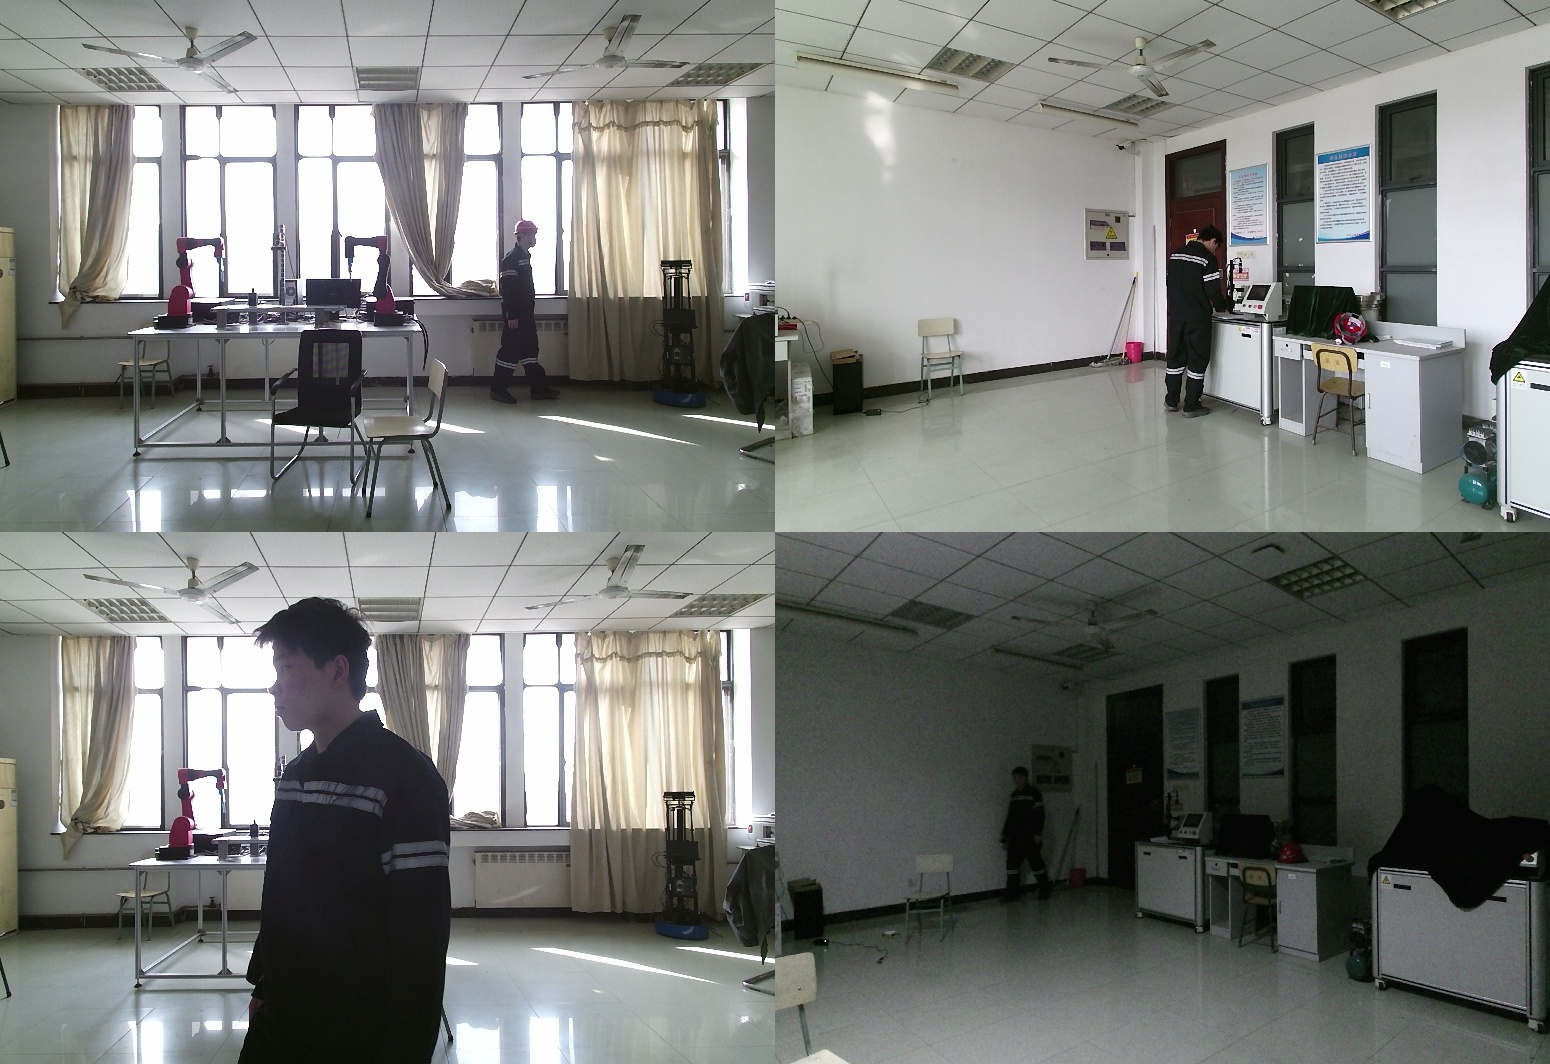person: (250, 596, 496, 1064), (490, 220, 562, 412), (1163, 229, 1228, 421), (1001, 769, 1052, 906)
